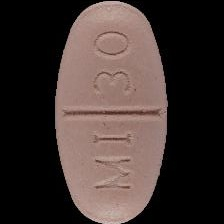63187-554: (0, 0, 224, 224)
